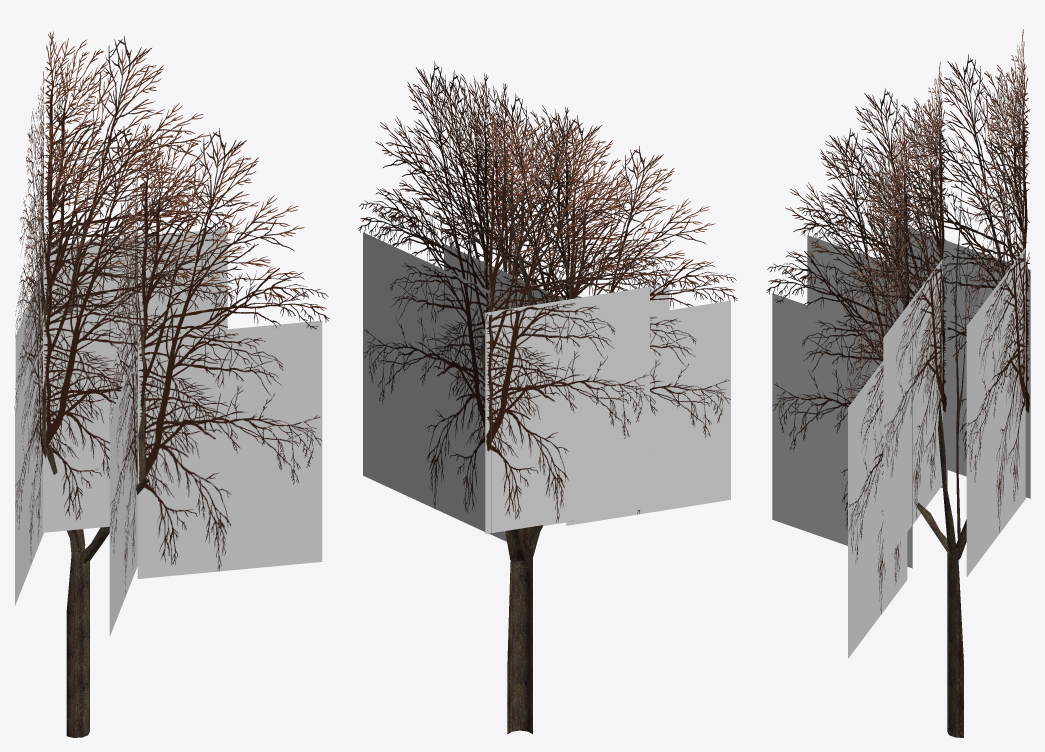
File: tree_27.dae
3 renders of one model, left to right at view 1: azimuth 30°, elevation 25°; view 2: azimuth 150°, elevation 25°; view 3: azimuth 270°, elevation 25°, orthographic. The views are drawn at different scales.
Parts seen in each view (by area): view 1: image_2, image_6, image_0, image_4, image_8, image_10, image_3, image_7, a043y_1, image_1, image_5, image_9 (+4 smaller); view 2: image_11, image_10, image_7, image_9, image_8, image_5, image_4, image_0, image_1, a043y_1, image_6; view 3: image_3, image_10, image_6, image_2, image_1, image_9, image_11, image_5, image_7, image_8, image_0, image_4 (+3 smaller).
Part boxes in pixels (x1,y1,x2,y2): image_2: (137, 320, 322, 578); image_6: (42, 298, 226, 532); image_0: (138, 124, 329, 341); image_4: (43, 122, 234, 318); image_8: (43, 31, 234, 247); image_10: (43, 228, 227, 329); image_3: (109, 352, 137, 636); image_7: (15, 341, 43, 605); a043y_1: (66, 555, 89, 737); image_1: (109, 157, 138, 423); image_5: (14, 163, 43, 411); image_9: (15, 71, 44, 341); image_11: (485, 286, 649, 533); image_10: (363, 232, 491, 534); image_7: (566, 300, 730, 525); image_9: (485, 113, 656, 312); image_8: (358, 61, 491, 290); image_5: (567, 146, 737, 308); image_4: (439, 93, 571, 299); image_0: (377, 70, 510, 272); image_1: (505, 115, 675, 298); a043y_1: (507, 547, 532, 734); image_6: (444, 244, 572, 521); image_3: (772, 293, 912, 568); image_10: (966, 248, 1025, 577); image_6: (883, 259, 942, 563); image_2: (848, 361, 907, 658); image_1: (766, 128, 911, 337); image_9: (885, 54, 1029, 272); image_11: (890, 221, 1030, 498); image_5: (801, 88, 946, 286); image_7: (807, 235, 947, 489); image_8: (964, 29, 1025, 329); image_0: (845, 109, 906, 411); image_4: (880, 62, 942, 341).
Bounding box in the file's own units: 401 × 262 × 771.
4 materials, 4 textured.
